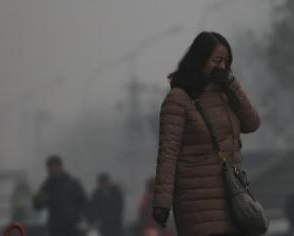person: (151, 29, 272, 236), (28, 152, 95, 236), (85, 169, 130, 236)
